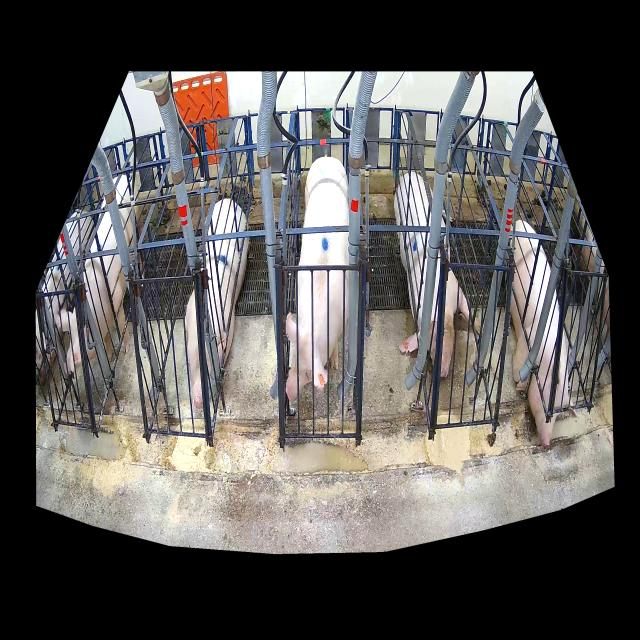pig: (61, 175, 142, 373), (394, 172, 469, 378), (286, 156, 349, 401), (185, 198, 249, 409), (511, 220, 570, 448)
